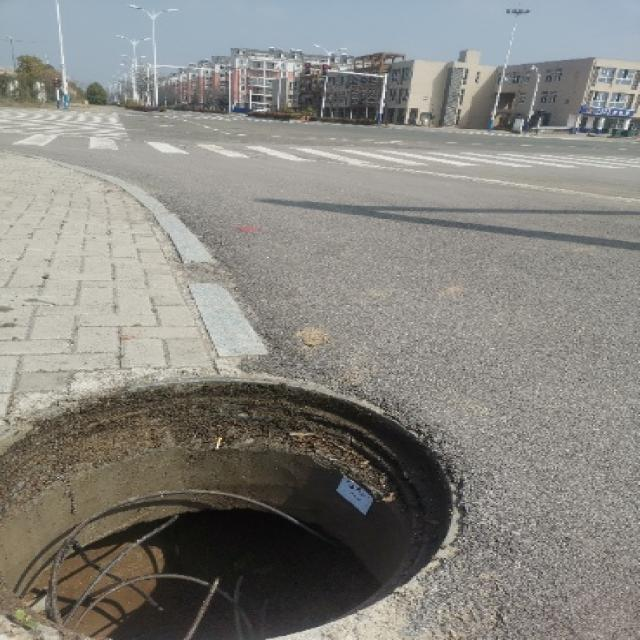Faulty: (0, 367, 477, 640)
